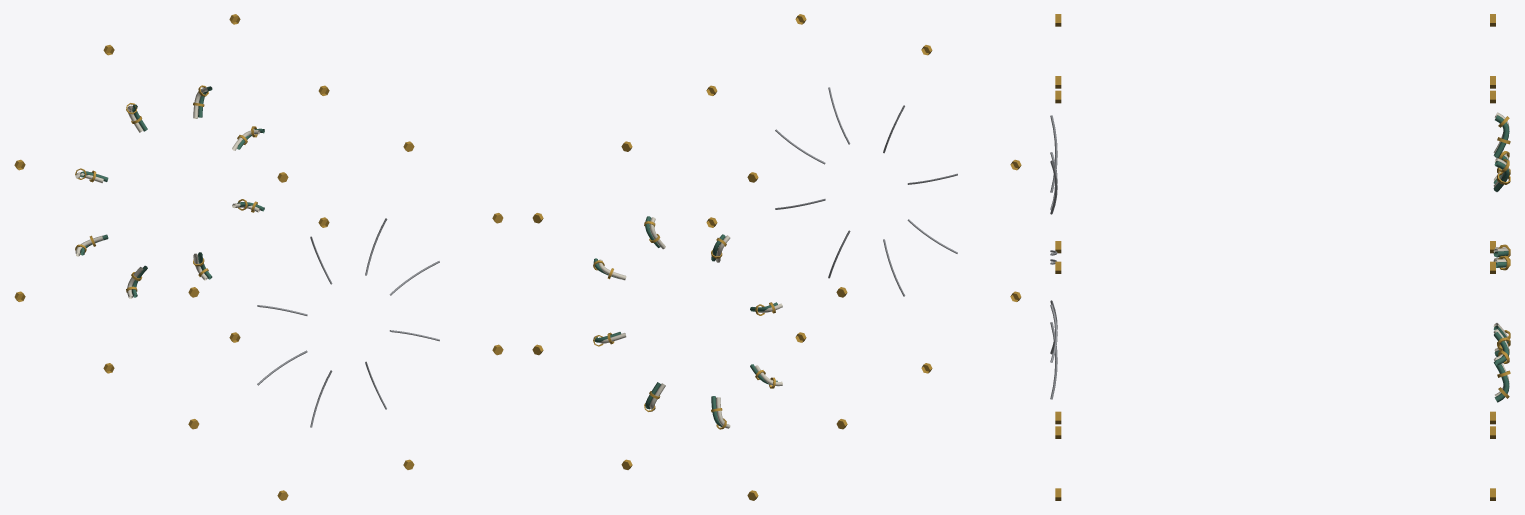
The model's file is h12_harness.obj.
3 views of the same model, side by side, from view 1: azimuth 30°, elevation 25°; view 2: azimuth 150°, elevation 25°; view 3: azimuth 270°, elevation 25° (orthographic). The views are drawn at different scales.
Parts seen in each view (by area): view 1: h12_harness; view 2: h12_harness; view 3: h12_harness.
Boxes of the visible parts, x1=… form: h12_harness: x1=14, y1=14, x2=503, y2=500; h12_harness: x1=532, y1=14, x2=1021, y2=500; h12_harness: x1=1050, y1=14, x2=1510, y2=500.
Size of the model in its own units: 2.87 by 2.86 by 2.93.
